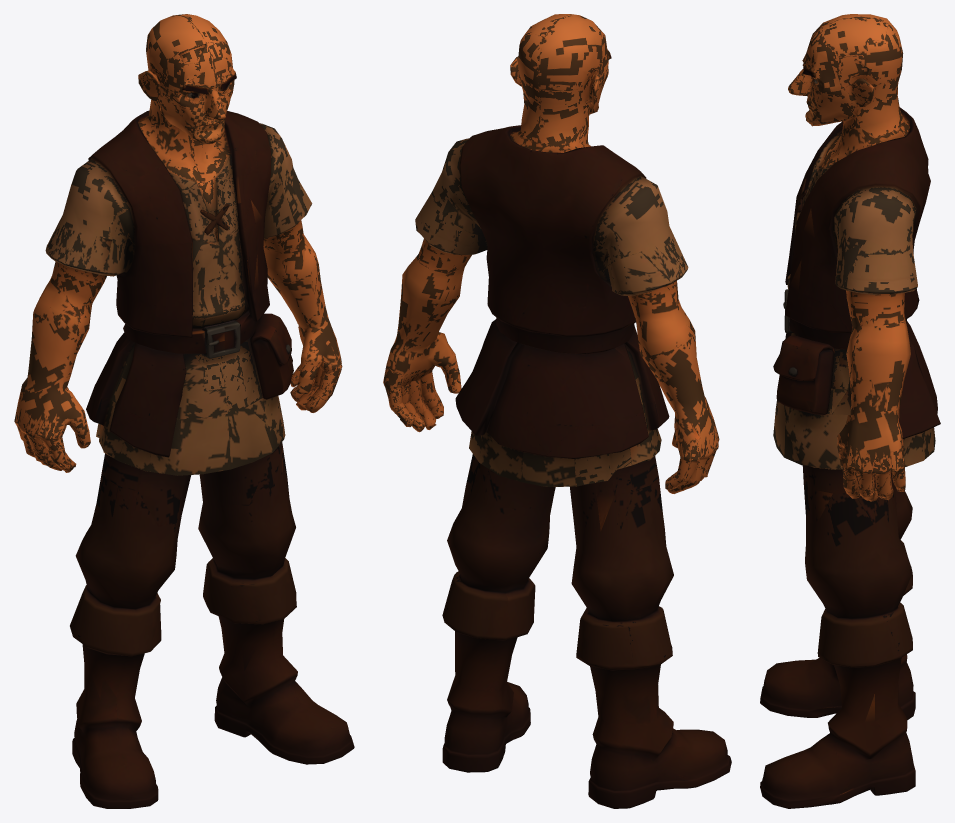
Rendered from koerper.glb.
3 views of the same model, side by side, from view 1: azimuth 30°, elevation 25°; view 2: azimuth 150°, elevation 25°; view 3: azimuth 270°, elevation 25° (orthographic). The views are drawn at different scales.
Visible parts, largest first — view 1: koerper; view 2: koerper; view 3: koerper.
Part boxes in pixels (x1,y1,x2,y2): koerper: (14,14,354,808); koerper: (383,14,731,808); koerper: (760,14,940,808).
Size of the model in its own units: 0.8034 by 1.8 by 0.4031.
Materials: 1 (1 with a texture image).
